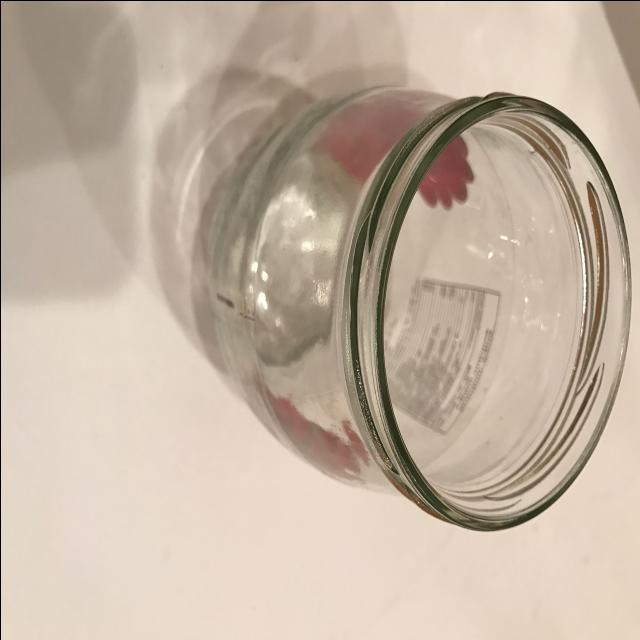glass: (206, 84, 634, 532)
